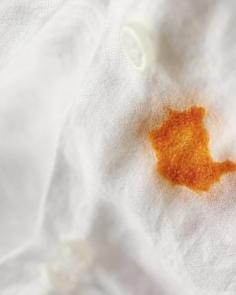stain: (131, 103, 235, 197)
